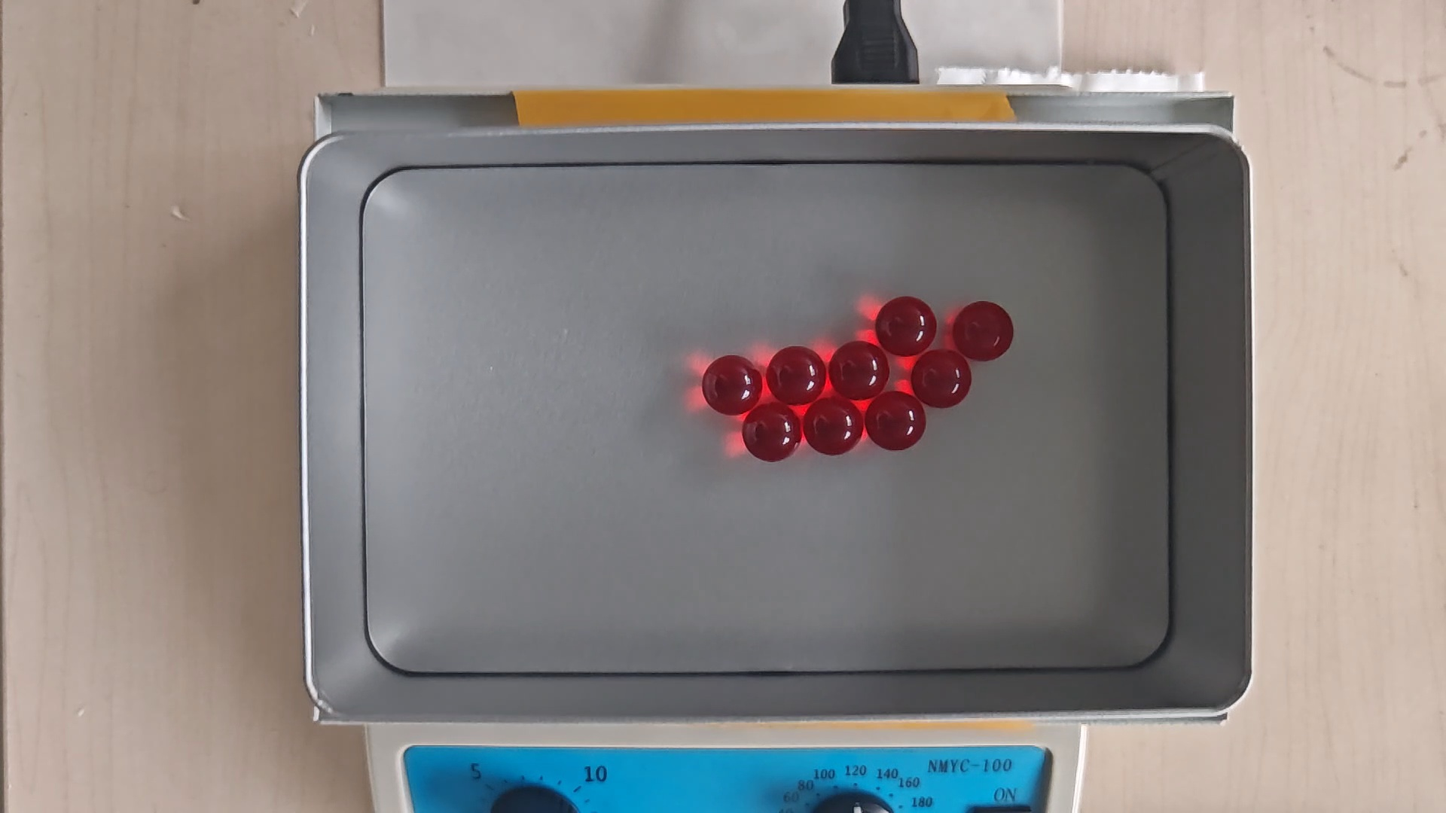ball: (876, 295, 937, 356), (954, 301, 1014, 362), (767, 345, 827, 405), (702, 354, 761, 415), (866, 391, 925, 452), (911, 350, 972, 409), (742, 404, 800, 464), (805, 398, 864, 456), (830, 341, 888, 400)
container: (360, 164, 1176, 672)
